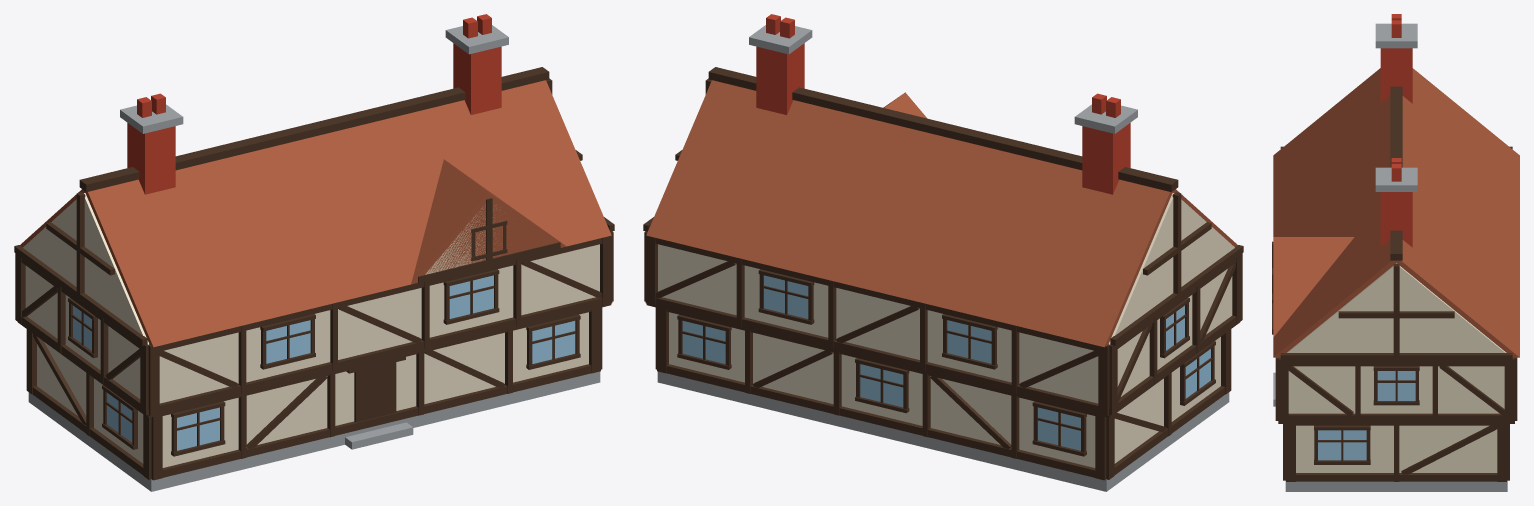
The model's file is house-2x1-2f-tudor-a.glb.
The picture shows the model from 3 angles, left to right: view 1: azimuth 30°, elevation 25°; view 2: azimuth 150°, elevation 25°; view 3: azimuth 270°, elevation 25°; orthographic projection. The views are drawn at different scales.
Parts seen in each view (by area): view 1: house-2x1-2f-tudor-a; view 2: house-2x1-2f-tudor-a; view 3: house-2x1-2f-tudor-a.
Part boxes in pixels (x1,y1,x2,y2): house-2x1-2f-tudor-a: (14,14,614,491); house-2x1-2f-tudor-a: (643,14,1243,491); house-2x1-2f-tudor-a: (1272,14,1519,491).
Size of the model in its own units: 2 by 1.35 by 1.
Materials: 1 (1 with a texture image).
